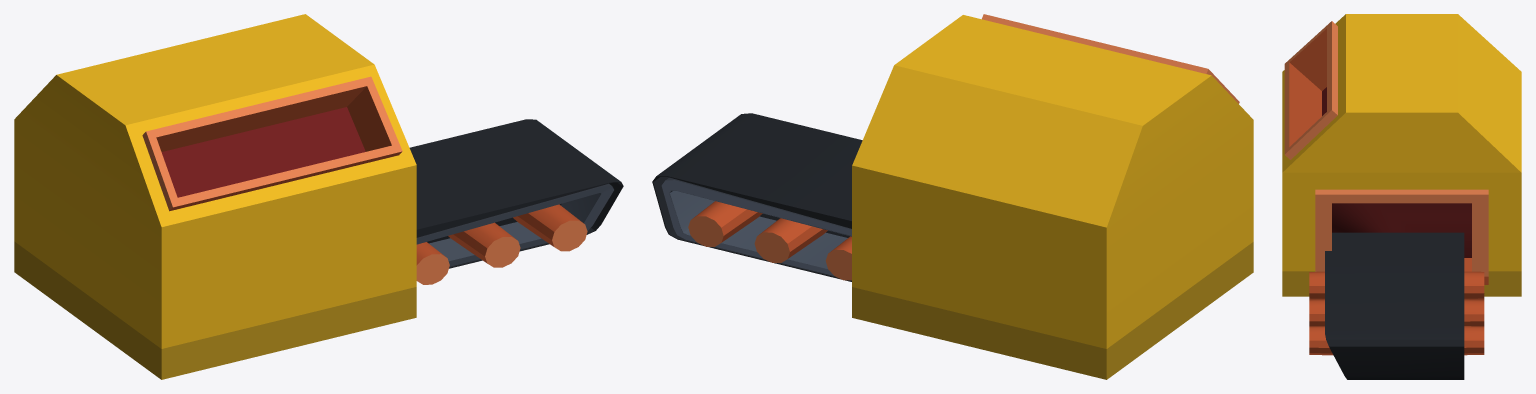
The model's file is Reciclador_AMARELO.fbx.
3 views of the same model, side by side, from view 1: azimuth 30°, elevation 25°; view 2: azimuth 150°, elevation 25°; view 3: azimuth 270°, elevation 25° (orthographic). The views are drawn at different scales.
Visible parts, largest first — view 1: Cube.007; view 2: Cube.007; view 3: Cube.007.
Boxes of the visible parts, bbox=[...] form: Cube.007: bbox=[14, 14, 623, 379]; Cube.007: bbox=[652, 14, 1253, 379]; Cube.007: bbox=[1282, 14, 1521, 379].
Size of the model in its own units: 722 by 317 by 375.
Materials: 1 (1 with a texture image).
